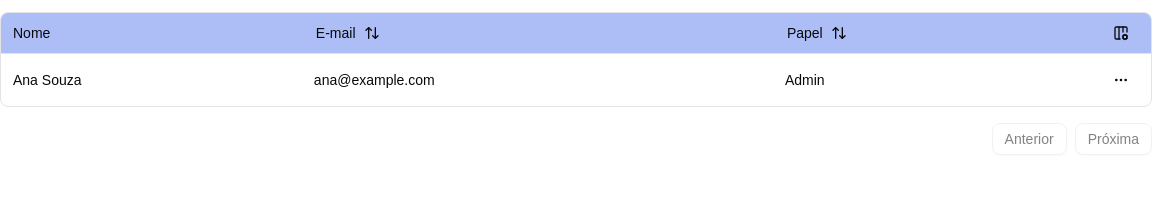
DataTable — visibilidade de colunas › oculta a coluna e grava a escolha no localStorage
What coordinates should you click on to do the following:
click the button named "Configurar colunas"
I would click on:
 (1121, 33)
Its box is left=1103, top=15, right=1139, bottom=51.
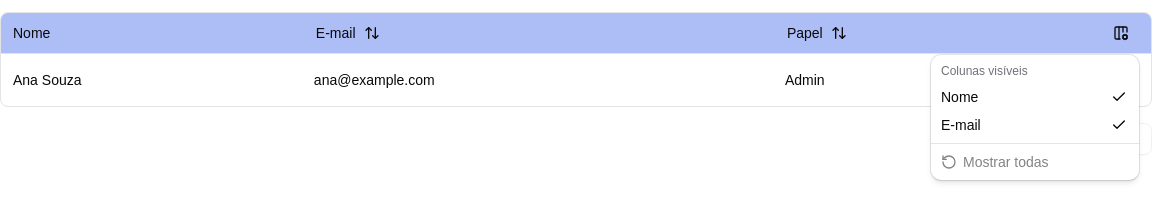
What coordinates should you click on to do the following:
click the menu item "E-mail"
I would click on:
 (961, 125)
Its box is left=941, top=117, right=1127, bottom=133.
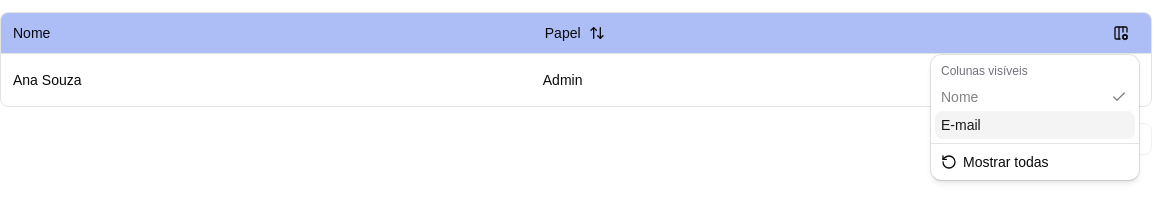
Check: the text "Ana Souza" is shown, box left=1, top=53, right=531, bottom=106
Check: the text "ana@example.com" is gone
